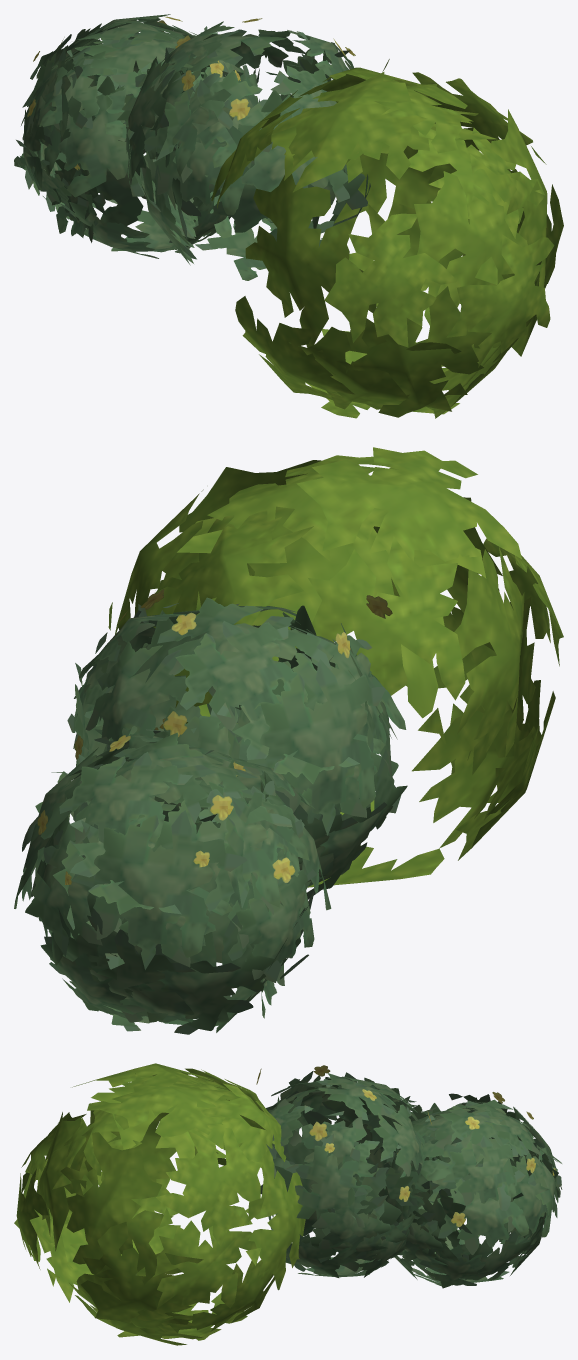
File: pref_sm_beach_bk_pointmol_grassplant01_lv1.fbx
3 renders of one model, top to bottom at view 1: azimuth 30°, elevation 25°; view 2: azimuth 150°, elevation 25°; view 3: azimuth 270°, elevation 25°, orthographic. The views are drawn at different scales.
Parts seen in each view (by area): view 1: pref_sm_beach_bk_pointmol_grassplant01_lv1; view 2: pref_sm_beach_bk_pointmol_grassplant01_lv1; view 3: pref_sm_beach_bk_pointmol_grassplant01_lv1.
Part boxes in pixels (x1,y1,x2,y2): pref_sm_beach_bk_pointmol_grassplant01_lv1: (14, 14, 563, 418); pref_sm_beach_bk_pointmol_grassplant01_lv1: (14, 447, 563, 1034); pref_sm_beach_bk_pointmol_grassplant01_lv1: (14, 1063, 562, 1345).
Size of the model in its own units: 5.53 by 5.15 by 10.14.
